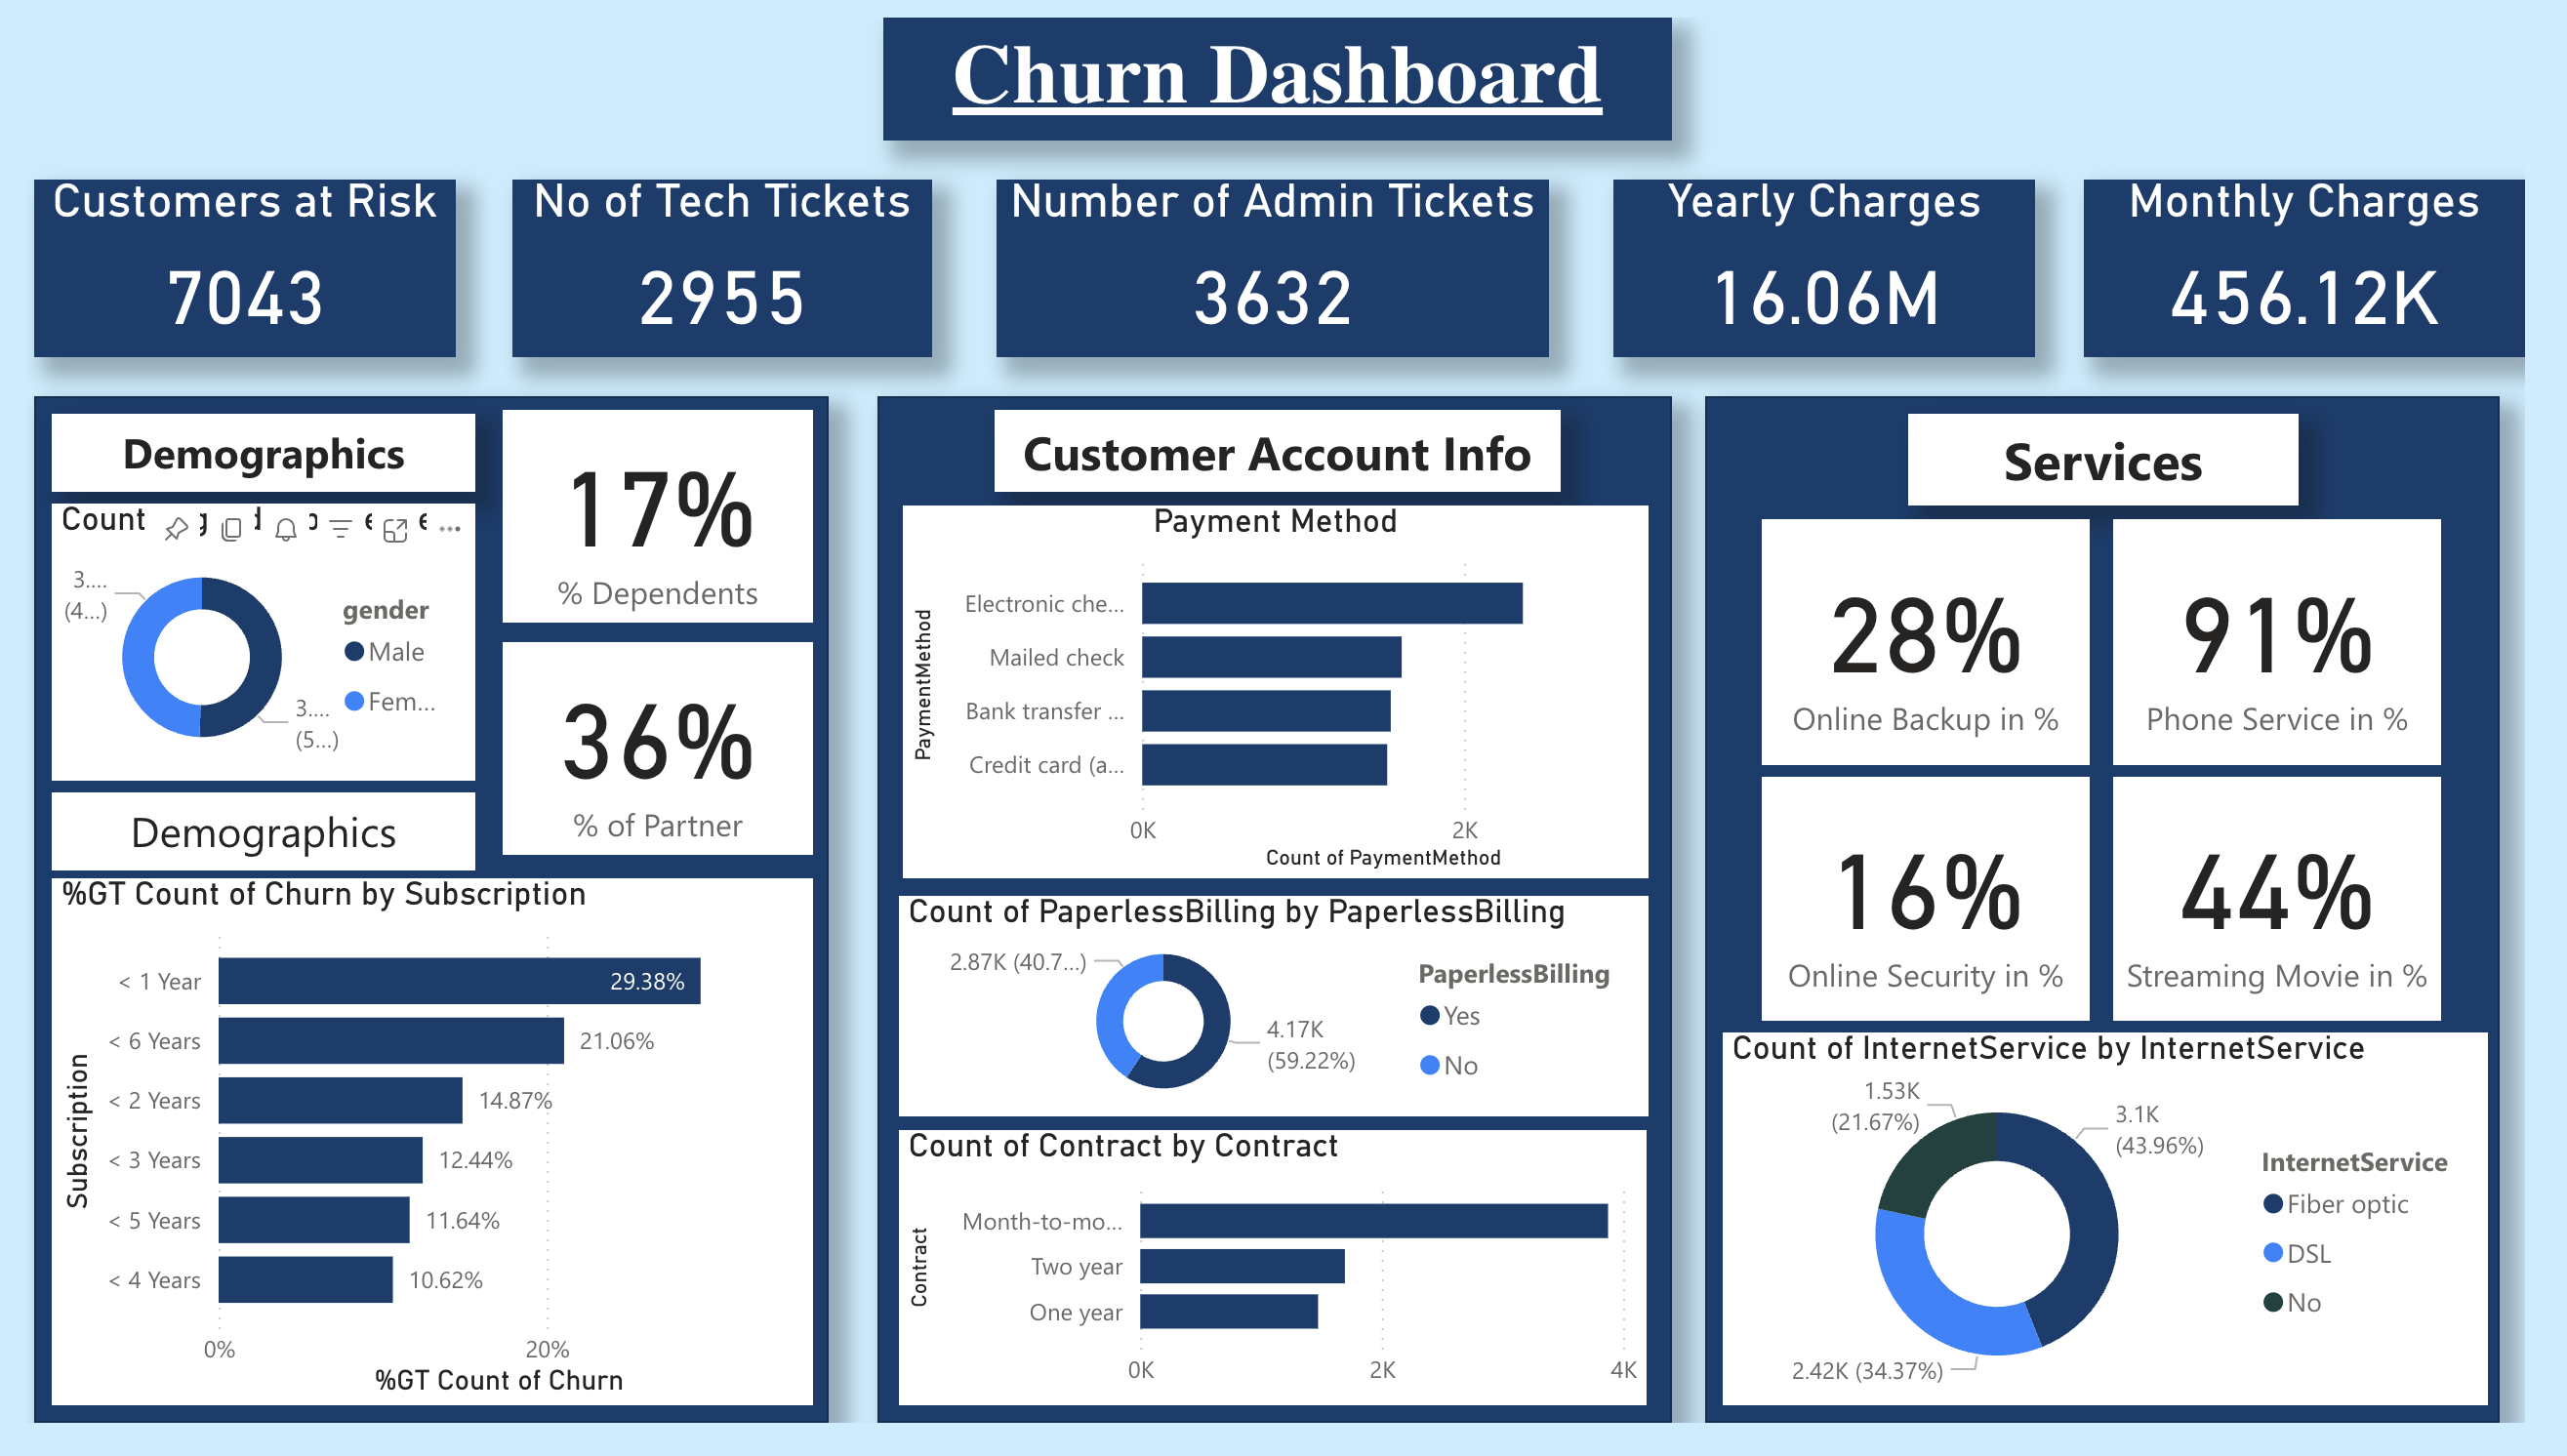

The page's visual inventory and layout, read from the dashboard file:
{"tool":"powerbi","page":{"name":"Churn","canvas":[1280,720],"ordinal":1},"visuals":[{"type":"textbox","box":[438.6,0,404.3,62.9],"z":0},{"type":"card","title":"Customers at Risk","fields":{"Values":["CountNonNull(01 Churn-Dataset.customerID)"]},"box":[4.3,82.9,215.7,91.4],"z":1000},{"type":"card","title":"No of Tech Tickets","fields":{"Values":["Sum(01 Churn-Dataset.numTechTickets)"]},"box":[248.6,82.9,215.7,91.4],"z":2000},{"type":"card","title":"Number of Admin Tickets","fields":{"Values":["Sum(01 Churn-Dataset.numAdminTickets)"]},"box":[497.1,82.9,282.9,91.4],"z":3000},{"type":"card","title":"Yearly Charges","fields":{"Values":["Sum(01 Churn-Dataset.TotalCharges)"]},"box":[812.9,82.9,215.7,91.4],"z":4000},{"type":"card","title":"Monthly Charges","fields":{"Values":["Sum(01 Churn-Dataset.MonthlyCharges)"]},"box":[1054.3,82.9,225.7,91.4],"z":5000},{"type":"shape","box":[4.3,194.3,407.1,525.7],"z":6000},{"type":"shape","box":[435.7,194.3,407.1,525.7],"z":7000},{"type":"shape","box":[860,194.3,407.1,525.7],"z":8000},{"type":"textbox","box":[12.9,202.9,217.1,40],"z":9000},{"type":"textbox","box":[496,201,290,42],"z":10000},{"type":"textbox","box":[964.3,202.9,200,47.1],"z":11000},{"type":"donutChart","fields":{"Category":["01 Churn-Dataset.gender"],"Y":["CountNonNull(01 Churn-Dataset.gender)"]},"box":[12.9,248.6,217.1,142.9],"z":12000},{"type":"clusteredBarChart","fields":{"Category":["01 Churn-Dataset.Subscription"],"Y":["CountNonNull(01 Churn-Dataset.Churn)"]},"box":[12.9,441.4,390,270],"z":13000},{"type":"textbox","box":[12.9,397.1,217.1,40],"z":14000},{"type":"card","fields":{"Values":["01 Churn-Dataset.% Dependents"]},"box":[244,201,159,109],"z":15000},{"type":"card","fields":{"Values":["01 Churn-Dataset.% of Partner"]},"box":[244,320,159,109],"z":16000},{"type":"clusteredBarChart","title":"Payment Method","fields":{"Category":["01 Churn-Dataset.PaymentMethod"],"Y":["CountNonNull(01 Churn-Dataset.PaymentMethod)"]},"box":[448.6,250,382.9,191.4],"z":17000},{"type":"donutChart","fields":{"Category":["01 Churn-Dataset.PaperlessBilling"],"Y":["CountNonNull(01 Churn-Dataset.PaperlessBilling)"]},"box":[447.1,450,384.3,112.9],"z":18000},{"type":"clusteredBarChart","fields":{"Category":["01 Churn-Dataset.Contract"],"Y":["CountNonNull(01 Churn-Dataset.Contract)"]},"box":[447.1,570,382.9,141.4],"z":19000},{"type":"donutChart","fields":{"Category":["01 Churn-Dataset.InternetService"],"Y":["CountNonNull(01 Churn-Dataset.InternetService)"]},"box":[868.6,520,392.9,191.4],"z":20000},{"type":"card","fields":{"Values":["01 Churn-Dataset.Online Backup in %"]},"box":[888.6,257.1,168.6,125.7],"z":21000},{"type":"card","fields":{"Values":["01 Churn-Dataset.Phone Service in %"]},"box":[1068.6,257.1,168.6,125.7],"z":22000},{"type":"card","fields":{"Values":["01 Churn-Dataset.Online Security in %"]},"box":[888.6,388.6,168.6,125.7],"z":23000},{"type":"card","fields":{"Values":["01 Churn-Dataset.Streaming Movie in %"]},"box":[1068.6,388.6,168.6,125.7],"z":24000}]}

Visuals, with their boxes in screenshot pixels (x1, y1, x2, y2), scaled from the page's 1280x720 canvas onto the 2567x1456 screenshot:
textbox: (879, 0, 1691, 127)
"Customers at Risk" card: (9, 168, 441, 352)
"No of Tech Tickets" card: (499, 168, 931, 352)
"Number of Admin Tickets" card: (997, 168, 1565, 352)
"Yearly Charges" card: (1630, 168, 2062, 352)
"Monthly Charges" card: (2114, 168, 2566, 352)
shape: (9, 393, 825, 1455)
shape: (874, 393, 1691, 1455)
shape: (1725, 393, 2541, 1455)
textbox: (26, 410, 462, 491)
textbox: (995, 407, 1576, 492)
textbox: (1934, 410, 2335, 506)
donutChart - 01 Churn-Dataset.gender x CountNonNull(01 Churn-Dataset.gender): (26, 503, 462, 791)
clusteredBarChart - 01 Churn-Dataset.Subscription x CountNonNull(01 Churn-Dataset.Churn): (26, 893, 808, 1438)
textbox: (26, 803, 462, 884)
card - 01 Churn-Dataset.% Dependents: (489, 407, 808, 627)
card - 01 Churn-Dataset.% of Partner: (489, 647, 808, 868)
"Payment Method" clusteredBarChart: (900, 506, 1667, 893)
donutChart - 01 Churn-Dataset.PaperlessBilling x CountNonNull(01 Churn-Dataset.PaperlessBilling): (897, 910, 1667, 1138)
clusteredBarChart - 01 Churn-Dataset.Contract x CountNonNull(01 Churn-Dataset.Contract): (897, 1153, 1664, 1438)
donutChart - 01 Churn-Dataset.InternetService x CountNonNull(01 Churn-Dataset.InternetService): (1742, 1052, 2530, 1438)
card - 01 Churn-Dataset.Online Backup in %: (1782, 520, 2120, 774)
card - 01 Churn-Dataset.Phone Service in %: (2143, 520, 2481, 774)
card - 01 Churn-Dataset.Online Security in %: (1782, 786, 2120, 1040)
card - 01 Churn-Dataset.Streaming Movie in %: (2143, 786, 2481, 1040)
